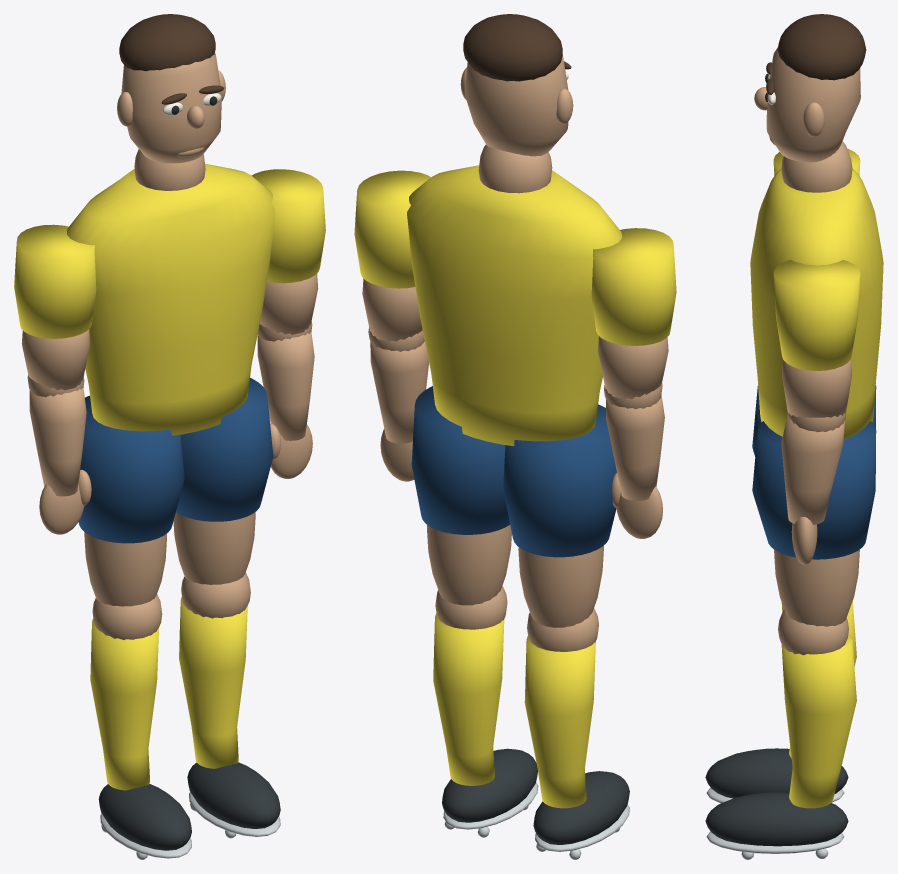
The model's file is footballer.glb.
3 views of the same model, side by side, from view 1: azimuth 30°, elevation 25°; view 2: azimuth 150°, elevation 25°; view 3: azimuth 270°, elevation 25° (orthographic). The views are drawn at different scales.
Parts seen in each view (by area): view 1: ShirtMesh, LeftShorts, RightShorts, LeftSock, RightSock, LeftSleeve, HeadMesh, RightSleeve, LeftThigh, LeftForearmMesh, RightThigh, RightForearmMesh (+12 smaller); view 2: ShirtMesh, LeftShorts, RightShorts, RightSock, LeftSock, LeftSleeve, HeadMesh, RightSleeve, HairCap, LeftThigh, RightThigh, LeftForearmMesh (+14 smaller); view 3: ShirtMesh, RightSock, RightShorts, RightSleeve, HeadMesh, RightBoot, RightThigh, RightForearmMesh, HairCap, LeftBoot, RightUpperArm, Neck (+7 smaller).
Boxes of the visible parts, <box> form: ShirtMesh: <box>67,163,274,435</box>; LeftShorts: <box>78,395,184,543</box>; RightShorts: <box>176,377,273,521</box>; LeftSock: <box>90,618,158,790</box>; RightSock: <box>179,597,247,768</box>; LeftSleeve: <box>14,224,96,338</box>; HeadMesh: <box>121,53,221,163</box>; RightSleeve: <box>251,169,325,283</box>; LeftThigh: <box>84,532,166,606</box>; LeftForearmMesh: <box>29,387,86,496</box>; RightThigh: <box>173,512,255,584</box>; RightForearmMesh: <box>257,332,314,440</box>; ShirtMesh: <box>407,165,621,446</box>; LeftShorts: <box>503,404,616,557</box>; RightShorts: <box>411,386,510,534</box>; RightSock: <box>433,613,504,785</box>; LeftSock: <box>524,636,595,808</box>; LeftSleeve: <box>591,228,676,345</box>; HeadMesh: <box>464,54,568,156</box>; RightSleeve: <box>354,170,430,288</box>; HairCap: <box>463,14,562,81</box>; LeftThigh: <box>518,545,603,627</box>; RightThigh: <box>427,525,511,605</box>; LeftForearmMesh: <box>606,394,664,500</box>; ShirtMesh: <box>750,168,883,439</box>; RightSock: <box>781,634,856,808</box>; RightShorts: <box>752,421,876,559</box>; RightSleeve: <box>773,260,860,370</box>; HeadMesh: <box>766,47,860,162</box>; RightBoot: <box>705,792,848,846</box>; RightThigh: <box>774,549,859,626</box>; RightForearmMesh: <box>781,414,844,524</box>; HairCap: <box>777,14,866,80</box>; LeftBoot: <box>705,748,848,798</box>; RightUpperArm: <box>782,357,851,417</box>; Neck: <box>781,141,852,192</box>.
Bounding box in the file's own units: 0.714 × 1.81 × 0.361.
